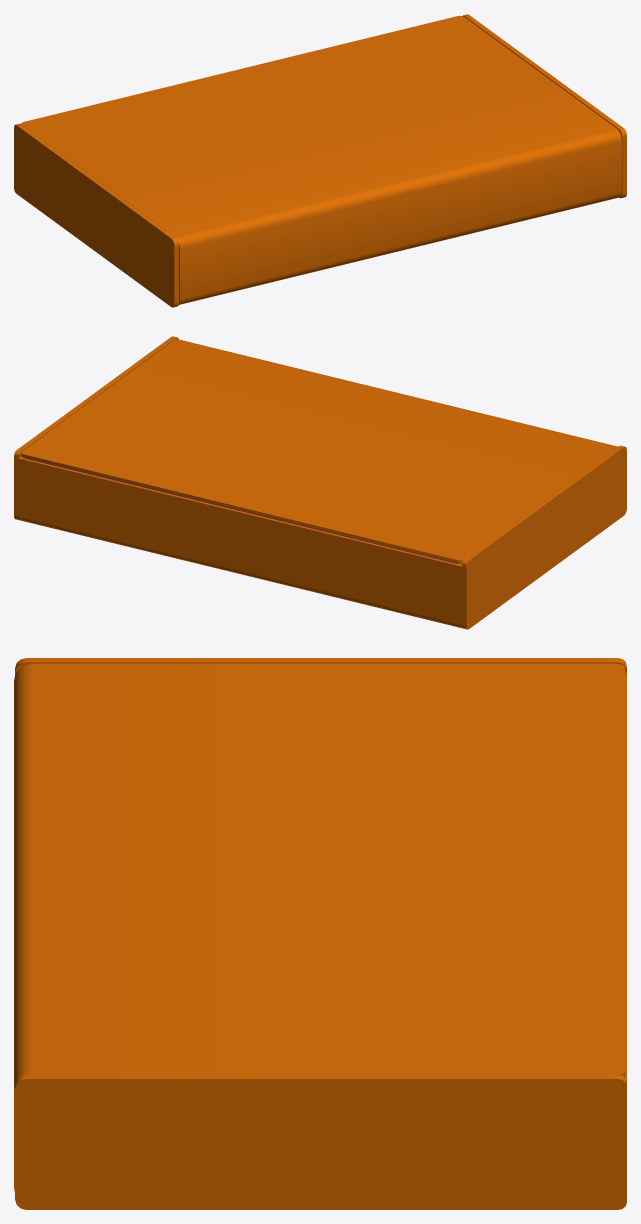
File: CassetteTape.gltf
3 views of the same model, one above another, from view 1: azimuth 30°, elevation 25°; view 2: azimuth 150°, elevation 25°; view 3: azimuth 270°, elevation 25° (orthographic). The views are drawn at different scales.
Visible parts, largest first — view 1: CaseLid, CaseLower; view 2: CaseLid, CaseLower; view 3: CaseLid, CaseLower.
Part boxes in pixels (box(x1,y1,x2,y2)): CaseLid: box(21, 15, 621, 304); CaseLower: box(14, 14, 626, 307); CaseLid: box(21, 339, 617, 563); CaseLower: box(14, 336, 626, 629); CaseLid: box(14, 663, 624, 1191); CaseLower: box(15, 658, 626, 1209).
Bounding box in the file's own units: 0.1077 × 0.0156 × 0.0663.
